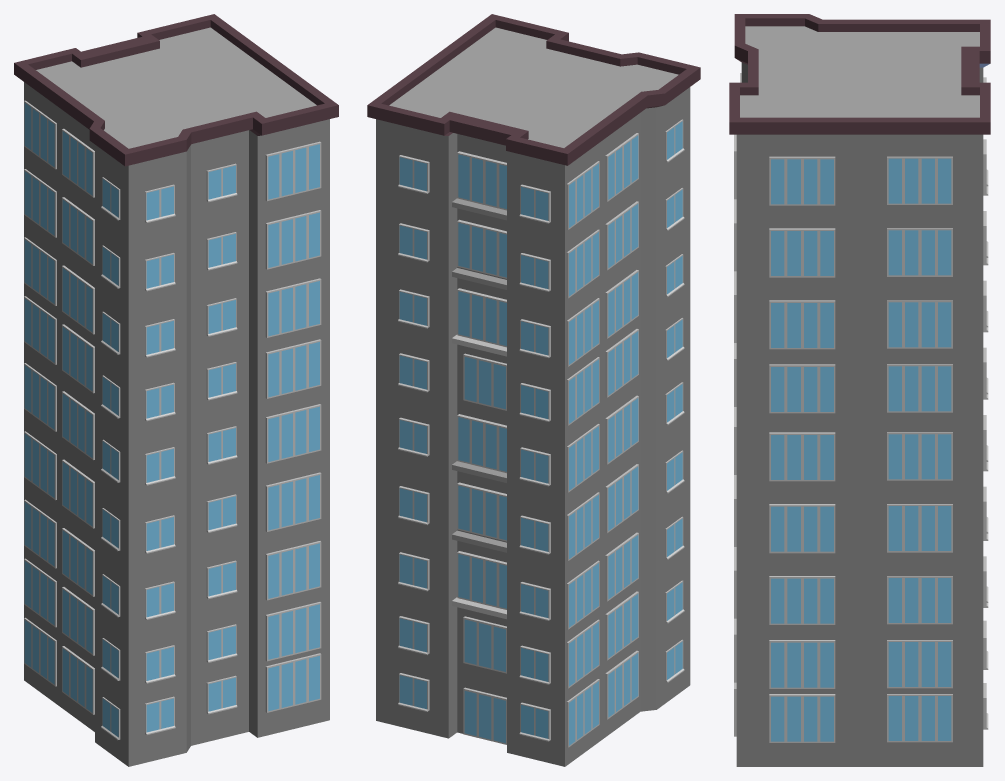
File: SkyScraper_1.fbx
The picture shows the model from 3 angles, left to right: view 1: azimuth 30°, elevation 25°; view 2: azimuth 150°, elevation 25°; view 3: azimuth 270°, elevation 25°; orthographic projection. The views are drawn at different scales.
Visible parts, largest first — view 1: Appartment; view 2: Appartment; view 3: Appartment.
Boxes of the visible parts, bbox=[...] form: Appartment: bbox=[14, 14, 338, 766]; Appartment: bbox=[367, 14, 700, 766]; Appartment: bbox=[729, 14, 990, 766].
Size of the model in its own units: 14.54 by 40.57 by 14.85.
